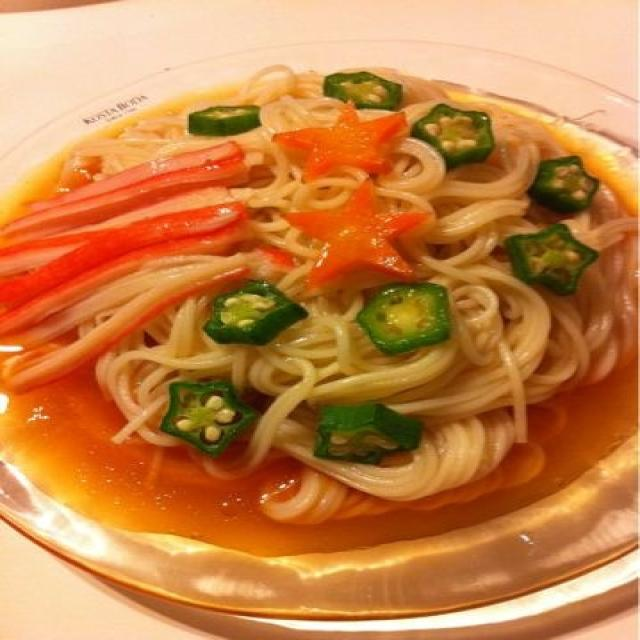面条主食: (13, 29, 615, 576)
